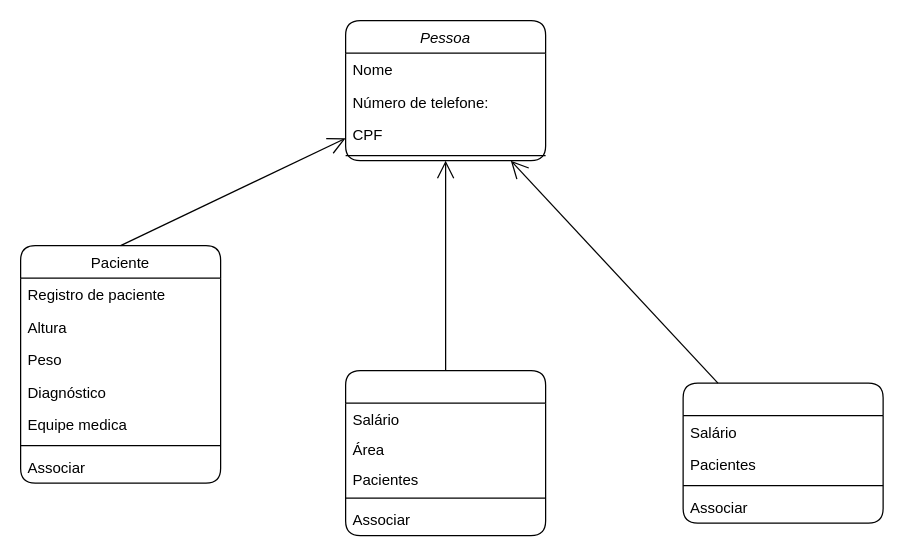
The diagram is 904 pixels wide and 556 high, and some of its shapes have lost their labels. Each missing label, with the box of its shape:
Enfermeiro: (682, 382, 883, 523)
Medico: (344, 369, 546, 536)
